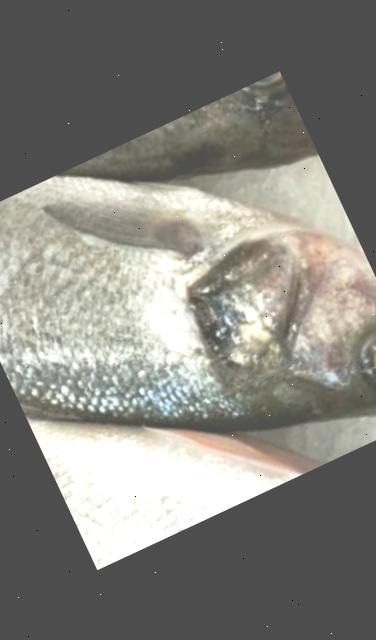Healthy Fish: (0, 171, 376, 432)
